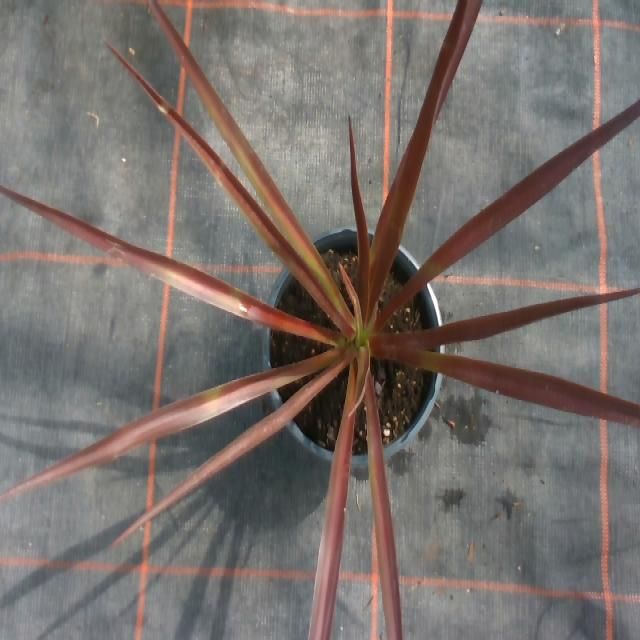Yucca-aloifolia: (149, 0, 346, 311), (375, 100, 639, 327), (114, 49, 327, 299), (0, 187, 337, 343), (1, 356, 337, 495), (114, 352, 351, 544), (373, 0, 481, 299), (374, 344, 639, 427), (373, 288, 639, 348), (309, 360, 356, 639), (365, 373, 401, 639), (350, 119, 369, 311)
